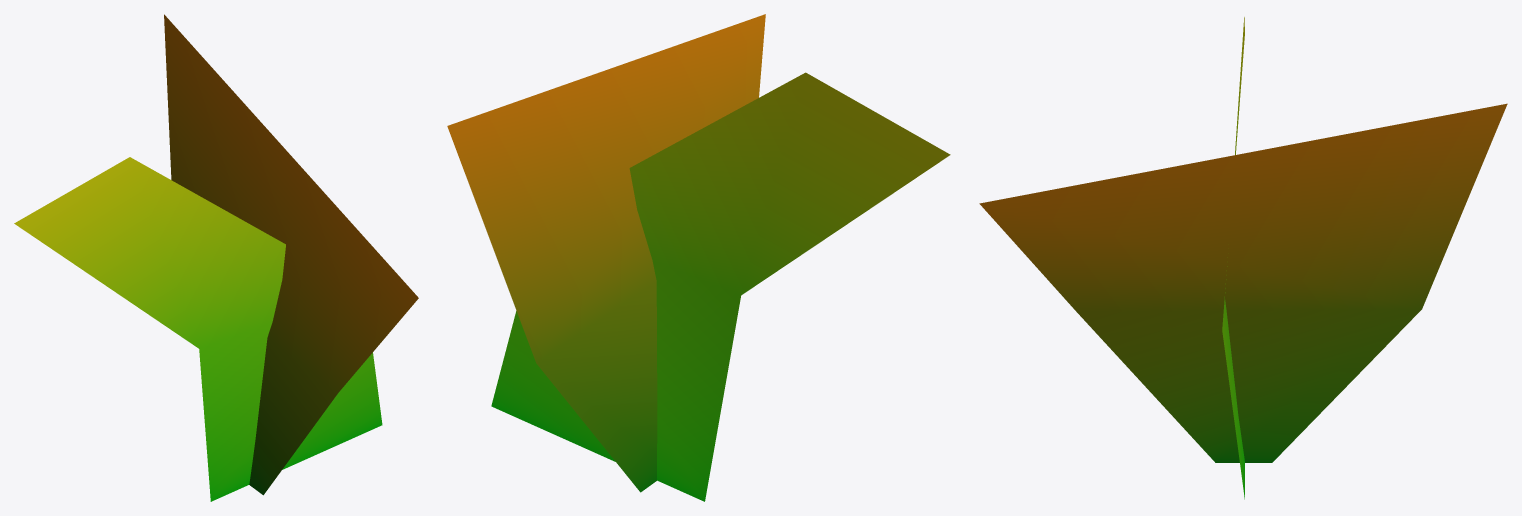
The model's file is Seaweed_LOD1_Var11_sdpjN.fbx.
The picture shows the model from 3 angles, left to right: view 1: azimuth 30°, elevation 25°; view 2: azimuth 150°, elevation 25°; view 3: azimuth 270°, elevation 25°; orthographic projection. The views are drawn at different scales.
Visible parts, largest first — view 1: merge1; view 2: merge1; view 3: merge1.
Part boxes in pixels (x1,y1,x2,y2): merge1: (14, 14, 418, 501); merge1: (447, 14, 950, 501); merge1: (979, 17, 1507, 499).
Bounding box in the file's own units: 14.77 × 14.37 × 17.72.
